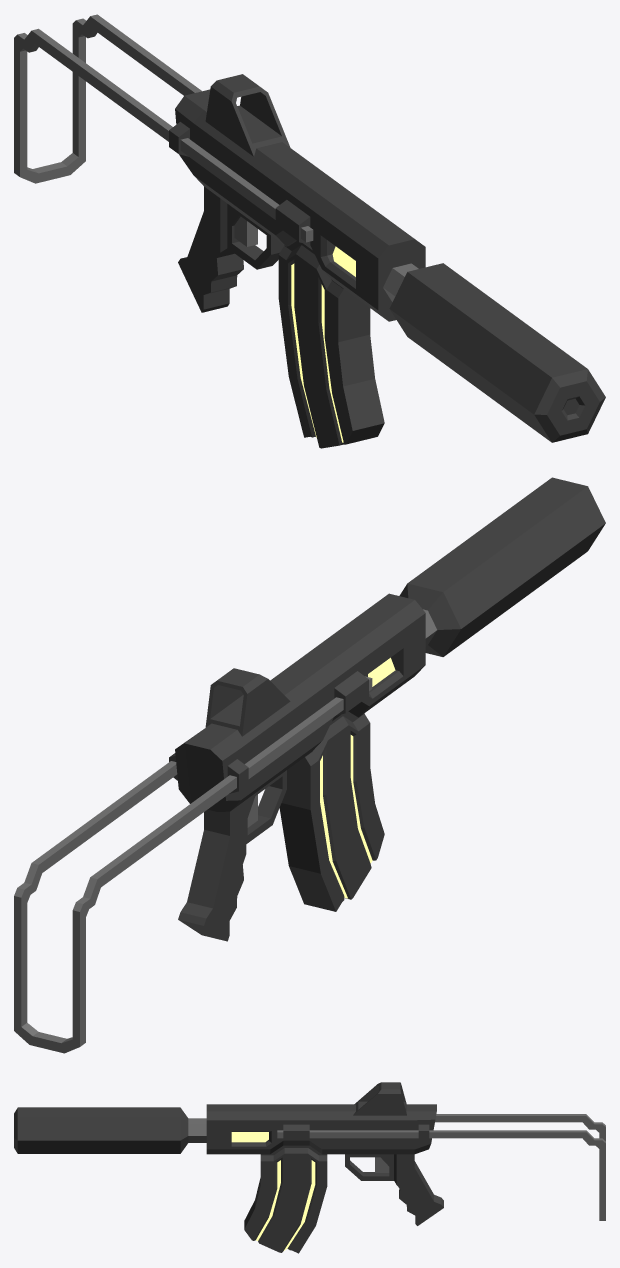
Rendered from PDW.fbx.
3 renders of one model, top to bottom at view 1: azimuth 30°, elevation 25°; view 2: azimuth 150°, elevation 25°; view 3: azimuth 270°, elevation 25°, orthographic. The views are drawn at different scales.
Parts seen in each view (by area): view 1: PDW; view 2: PDW; view 3: PDW.
Boxes of the visible parts, x1,y1,x2,y2 form: PDW: (14,14,605,448); PDW: (14,477,605,1053); PDW: (14,1082,605,1253).
Bounding box in the file's own units: 70.26 × 271 × 892.
